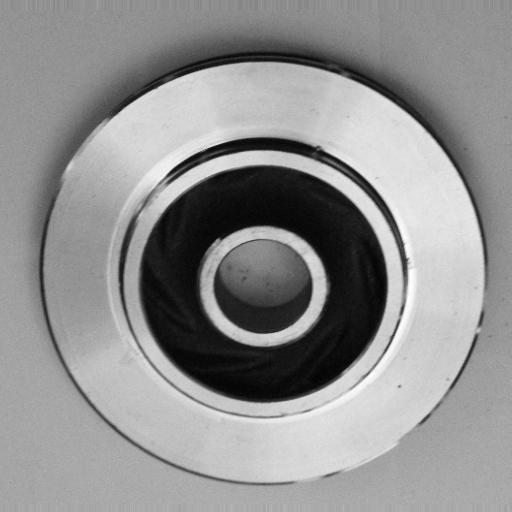scratch: (294, 421, 405, 493), (129, 155, 172, 243)
unpolished_casting: (34, 51, 490, 487)
